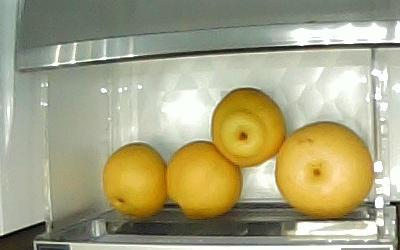pear: (273, 120, 374, 217), (163, 139, 242, 219), (209, 86, 287, 167), (101, 141, 169, 220)
